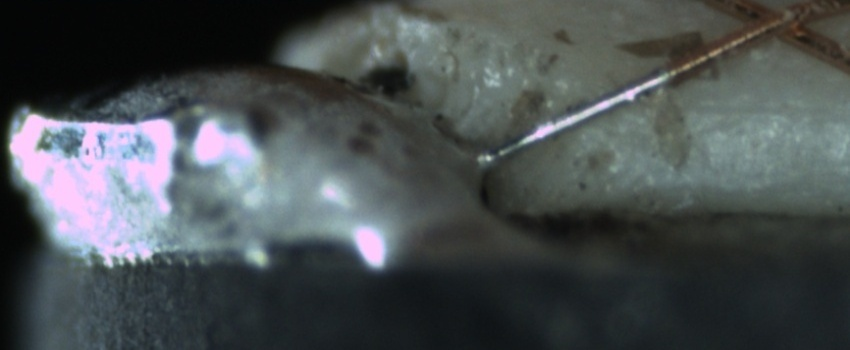CL: (711, 2, 832, 47)
DL: (670, 80, 847, 142)
TS: (484, 61, 674, 169)
